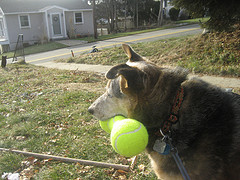tennis ball: (104, 118, 153, 159), (96, 113, 128, 132)
